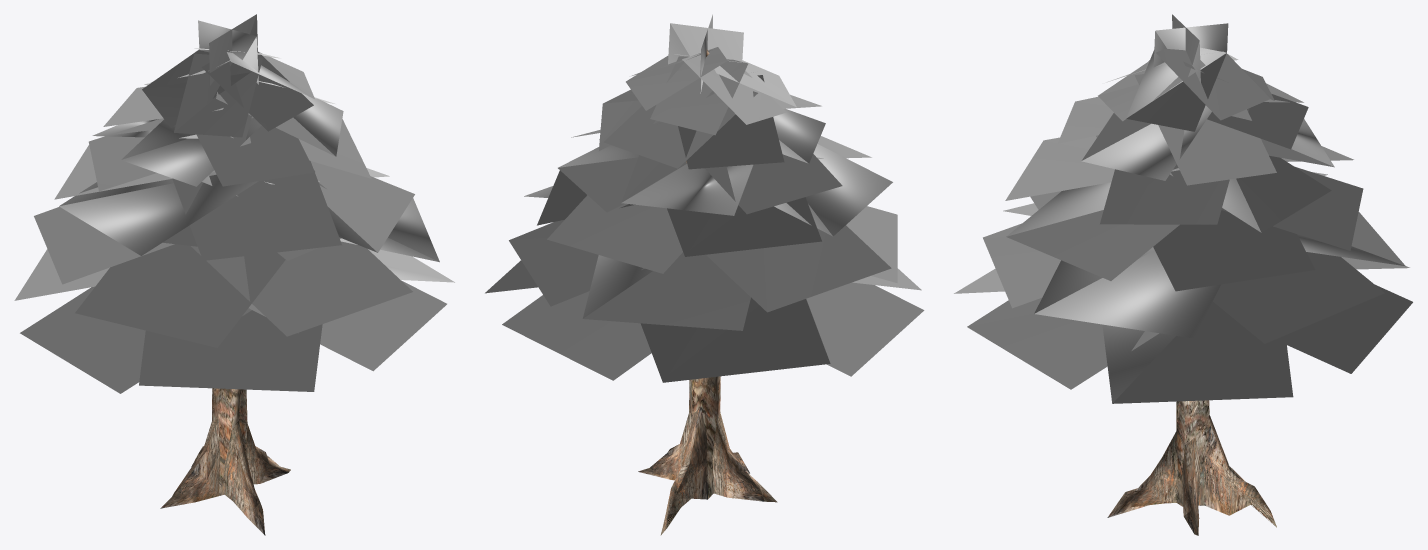
File: Tree.fbx
The picture shows the model from 3 angles, left to right: view 1: azimuth 30°, elevation 25°; view 2: azimuth 150°, elevation 25°; view 3: azimuth 270°, elevation 25°; orthographic projection. The views are drawn at different scales.
Parts seen in each view (by area): view 1: Arvore_00; view 2: Arvore_00; view 3: Arvore_00.
Part boxes in pixels (x1,y1,x2,y2): Arvore_00: [14, 14, 454, 535]; Arvore_00: [485, 14, 924, 535]; Arvore_00: [954, 14, 1412, 535].
Size of the model in its own units: 15.81 by 20 by 16.63.
